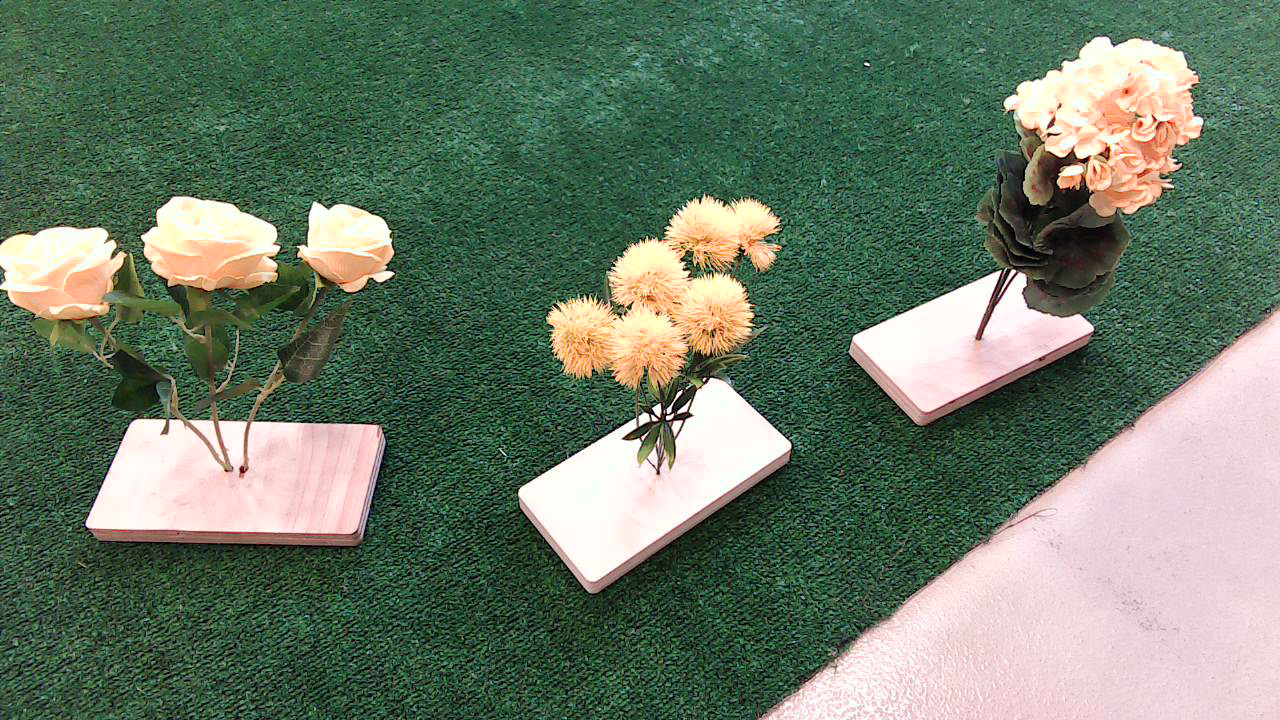dandelion: (539, 195, 808, 425)
geranium: (951, 28, 1213, 330)
rose: (1, 197, 407, 425)
